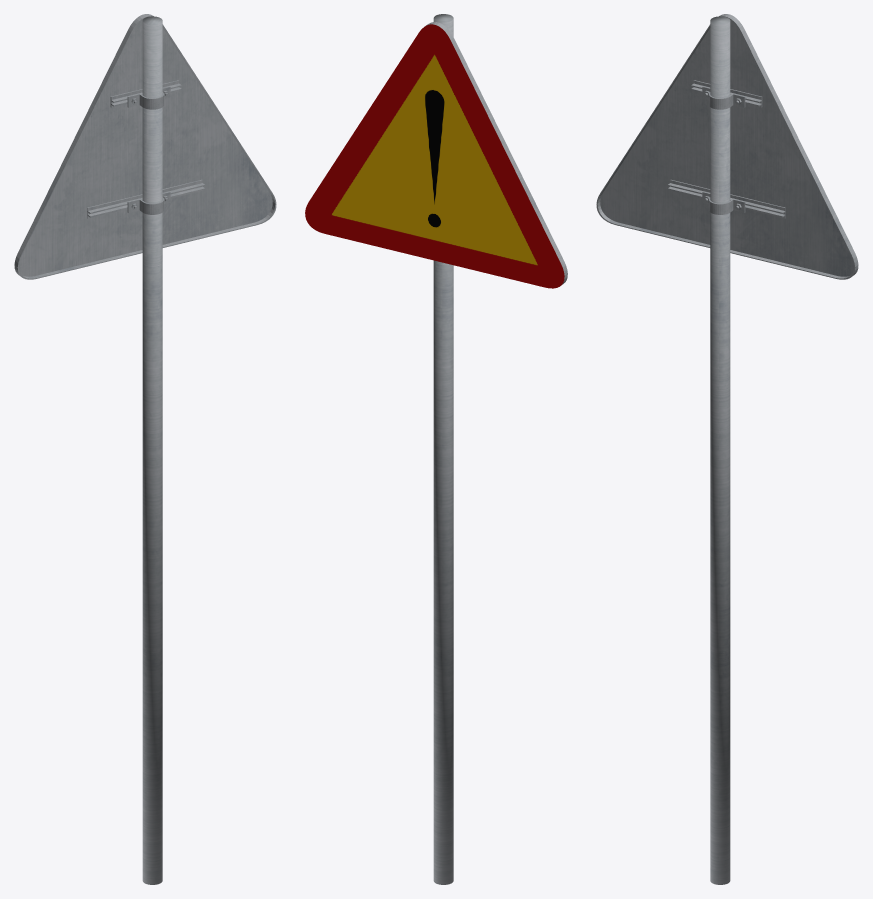
The model's file is Caution_v2.fbx.
3 renders of one model, left to right at view 1: azimuth 30°, elevation 25°; view 2: azimuth 150°, elevation 25°; view 3: azimuth 330°, elevation 25°, orthographic.
Parts seen in each view (by area): view 1: Caution v2; view 2: Caution v2; view 3: Caution v2.
Boxes of the visible parts, x1=… form: Caution v2: x1=14, y1=14, x2=276, y2=884; Caution v2: x1=305, y1=14, x2=567, y2=884; Caution v2: x1=596, y1=14, x2=858, y2=884.
Size of the model in its own units: 0.0876 by 0.9002 by 2.86.
